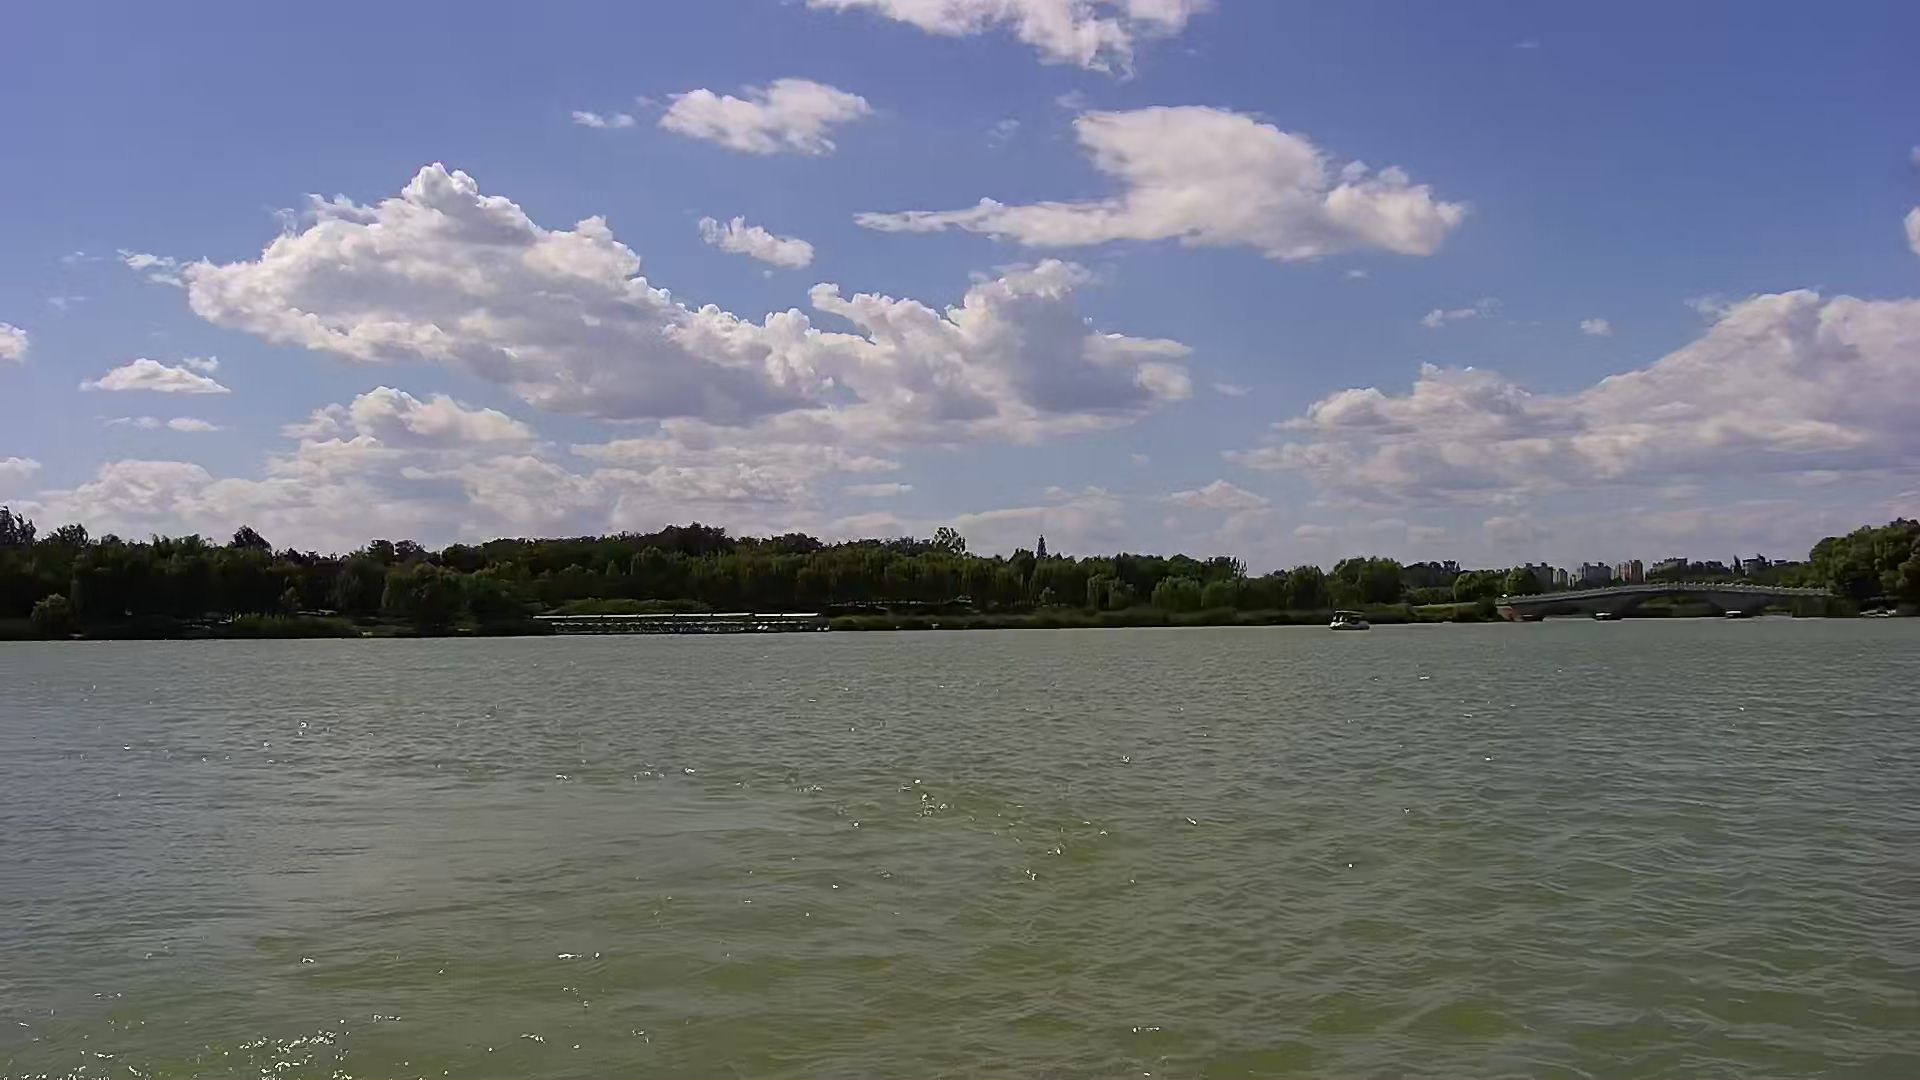boat: (1329, 608, 1375, 632)
bridge: (1502, 583, 1833, 626), (539, 611, 823, 632)
